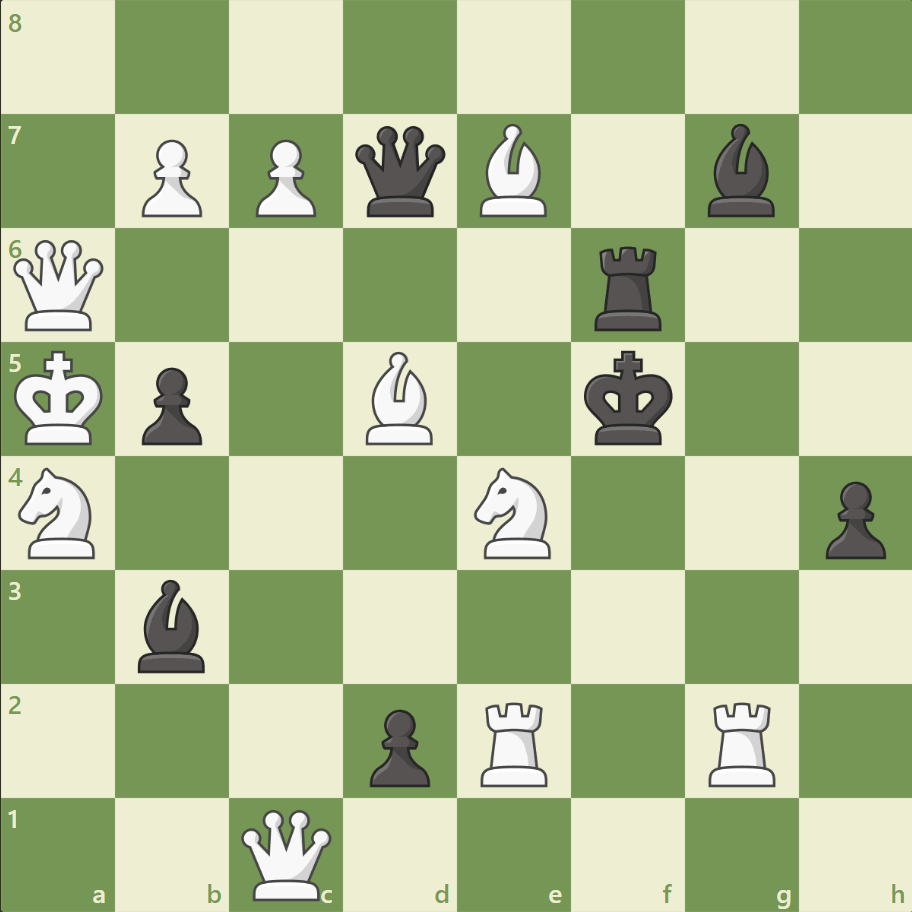B: (471, 120, 555, 222), (358, 347, 442, 449)
K: (11, 344, 111, 452)
N: (11, 461, 108, 564), (465, 461, 562, 564)
P: (133, 132, 208, 223), (247, 132, 322, 223)
Q: (10, 236, 109, 335), (237, 804, 336, 903)
R: (473, 693, 556, 790), (700, 693, 783, 790)
b: (698, 120, 782, 222), (131, 574, 215, 676)
k: (579, 344, 679, 452)
p: (133, 359, 208, 450), (815, 473, 889, 564), (361, 700, 435, 791)
q: (351, 122, 450, 222)
r: (587, 239, 670, 336)
